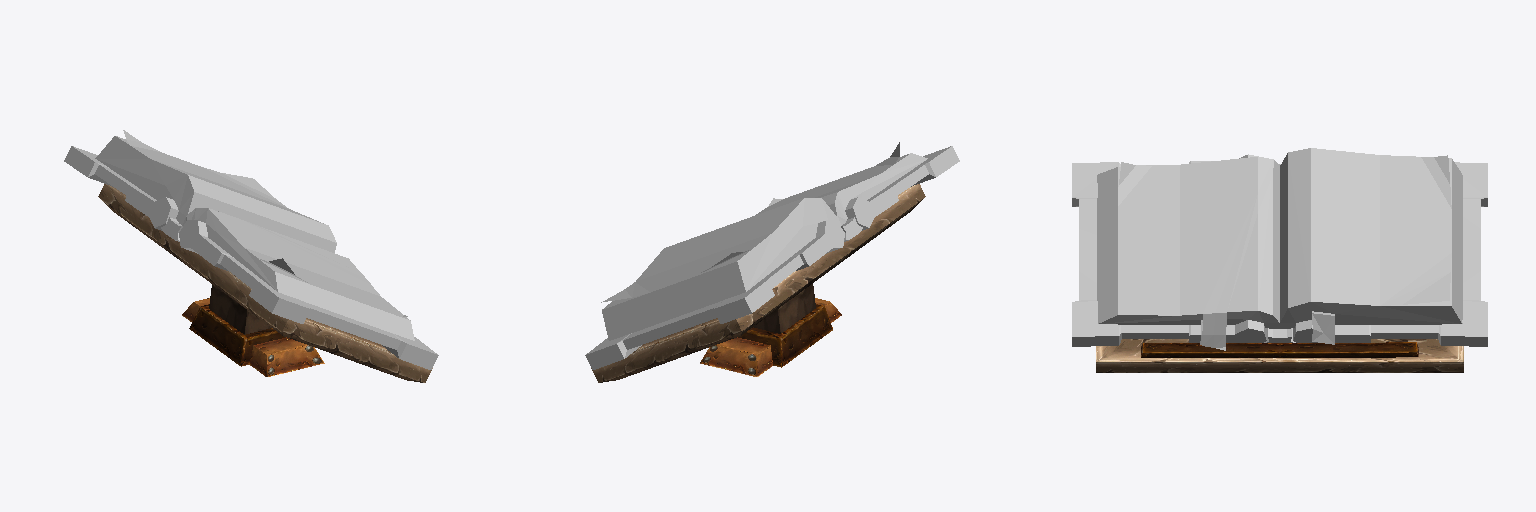
3 views of the same model, side by side, from view 1: azimuth 30°, elevation 25°; view 2: azimuth 150°, elevation 25°; view 3: azimuth 270°, elevation 25° (orthographic).
Visible parts, largest first — view 1: book_dwarf_huge_open_02_lecturn; view 2: book_dwarf_huge_open_02_lecturn; view 3: book_dwarf_huge_open_02_lecturn.
Boxes of the visible parts, box(x1,y1,x2,y2) form: book_dwarf_huge_open_02_lecturn: box(64, 130, 438, 382); book_dwarf_huge_open_02_lecturn: box(585, 142, 959, 382); book_dwarf_huge_open_02_lecturn: box(1072, 148, 1487, 372).
Bounding box in the file's own units: 2.88 × 2.56 × 5.86.
Materials: 3 (1 with a texture image).